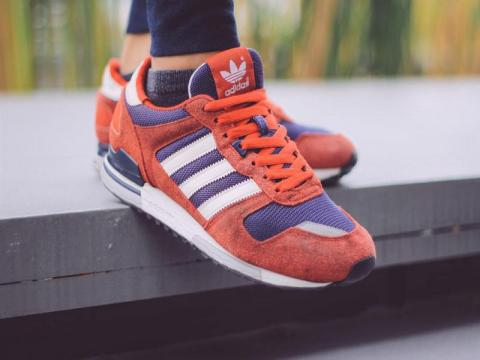addidas: (160, 133, 262, 223), (220, 61, 250, 84)
